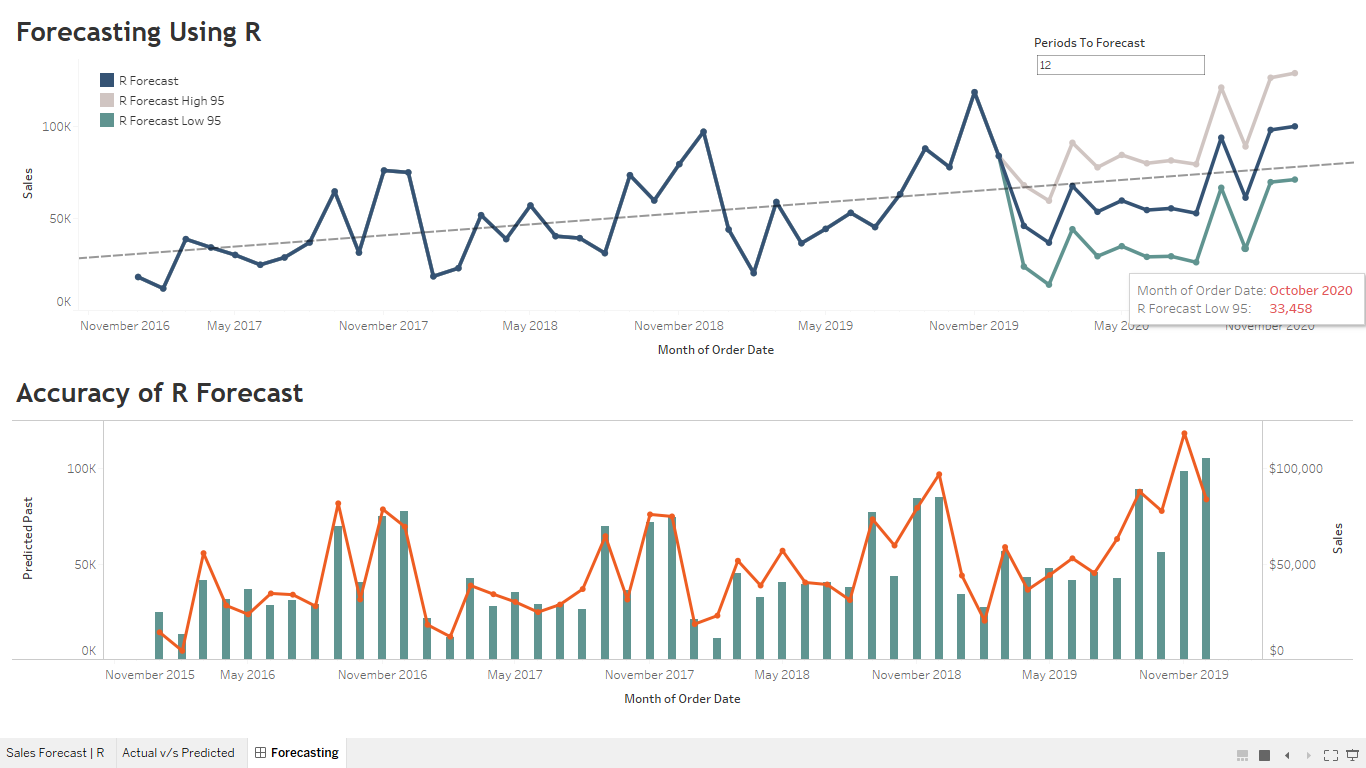

This screenshot's page, from the dashboard's own definition file:
{"tool":"tableau","page":{"name":"Forecasting","canvas":[1000,1000],"units":"permille","ordinal":0},"visuals":[{"type":"worksheet","title":"Sales Forecast | R","mark":"Automatic","cols":["Calculation_227713297922531328"],"box":[6.9,13.5,986.1,486.5]},{"type":"parameter","param":"[Parameters].[Parameter 3]","box":[756.7,45.6,127.3,55.7]},{"type":"legend","title":"Sales Forecast | R","param":"[Sample - Superstore].[:Measure Names]","box":[71,94.6,139.4,113.2]},{"type":"worksheet","title":"Actual v/s Predicted","mark":"Automatic","rows":["Calculation_227713297930686469","Sales"],"cols":["Order Date"],"box":[6.9,500,986.1,486.5]}]}

Visuals, with their boxes on the dashboard's canvas, which has no fixed pixel size, in thousandths of its width and height (x1, y1, x2, y2). These are canvas units, not pixel positions in the 1366x768 screenshot, which may show the page scaled, cropped or inside an application window:
"Sales Forecast | R" worksheet: bbox=(7, 14, 993, 500)
parameter: bbox=(757, 46, 884, 101)
"Sales Forecast | R" legend: bbox=(71, 95, 210, 208)
"Actual v/s Predicted" worksheet: bbox=(7, 500, 993, 986)
